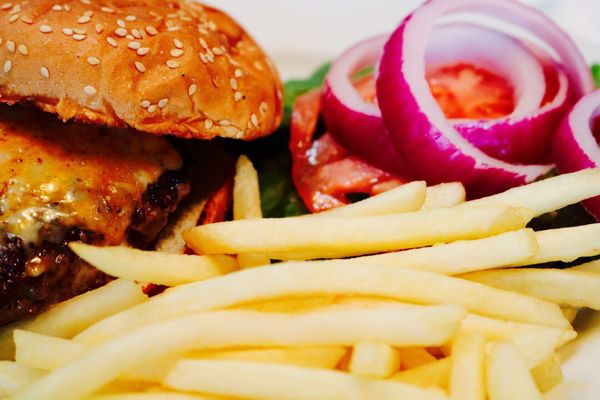soup: (1, 0, 291, 349)
